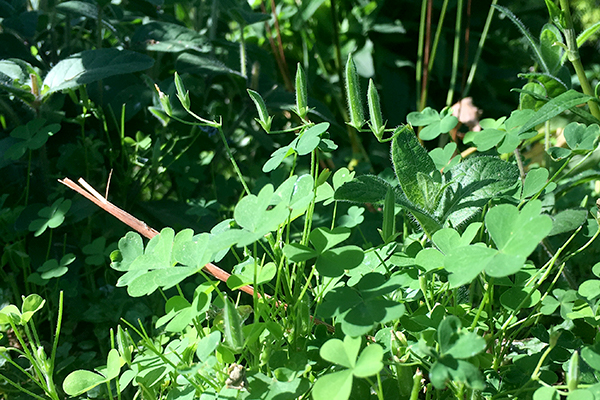oxalis: (128, 195, 322, 291), (409, 212, 555, 289), (323, 274, 393, 400)
